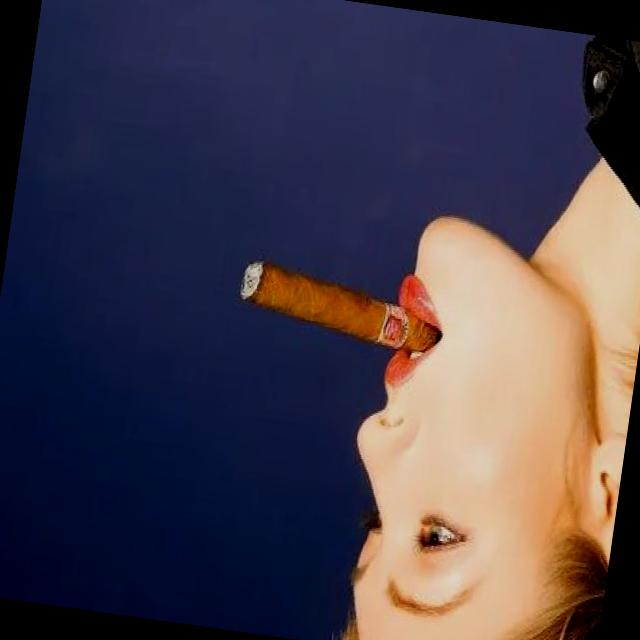cigarette: (226, 248, 451, 373)
